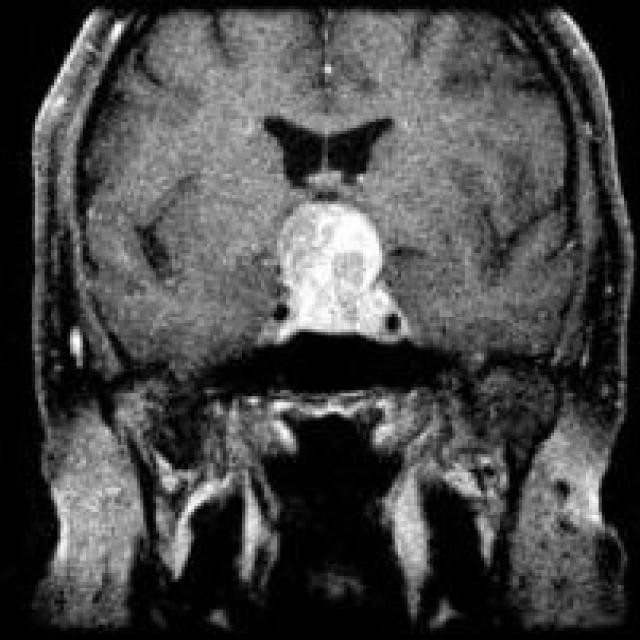brain_tumor: (274, 198, 411, 344)
